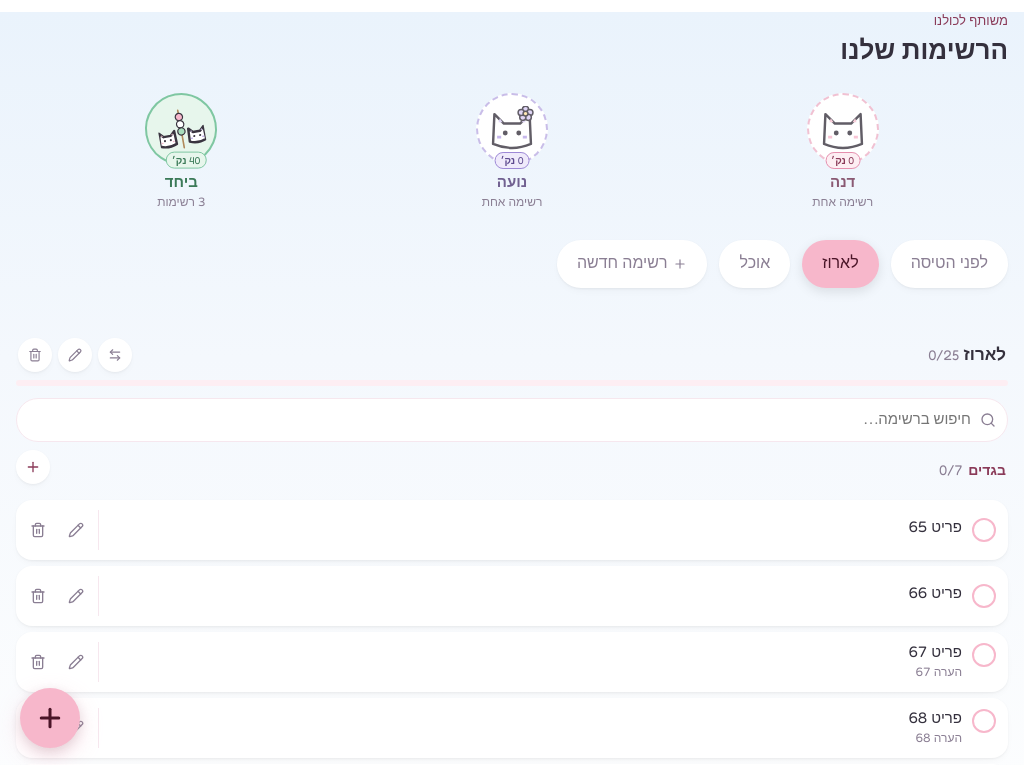
Test: whose lists › shows the open list’s group, and another group’s lists once its stamp is tapped
Click the button "0 נק׳ נועה רשימה אחת".
click(512, 152)  # box x1=472 y1=88 x2=552 y2=216
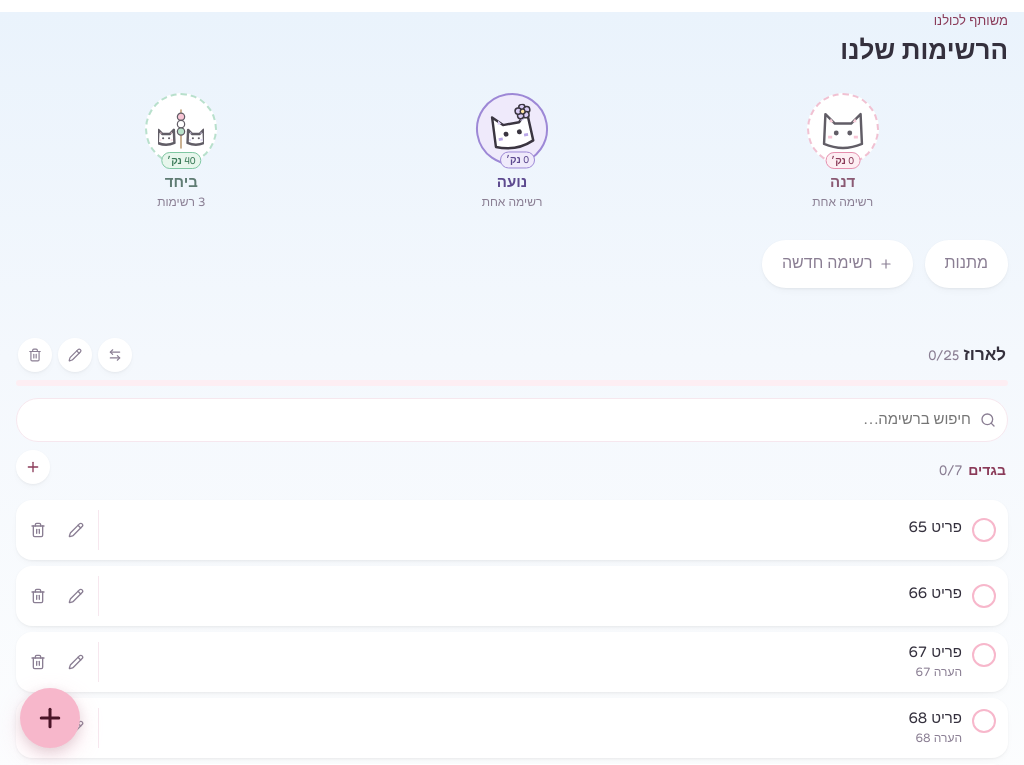
Result: the button "0 נק׳ נועה רשימה אחת" is pressed at x1=472 y1=88 x2=552 y2=216
